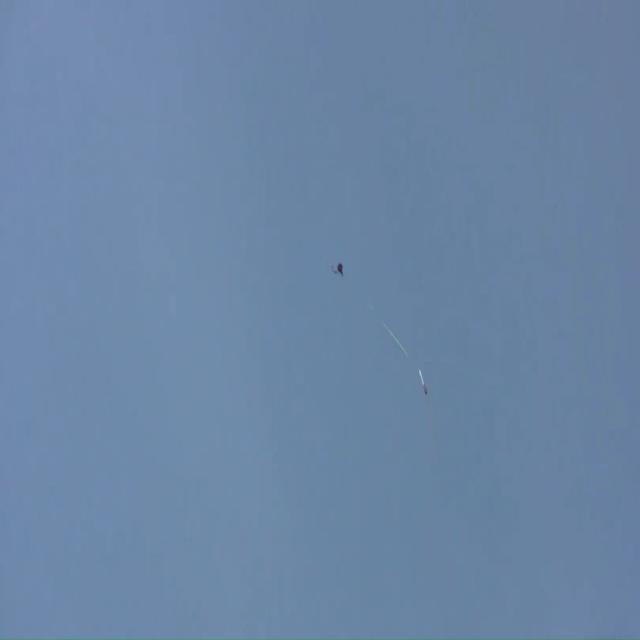Rocket: (419, 371, 427, 394)
